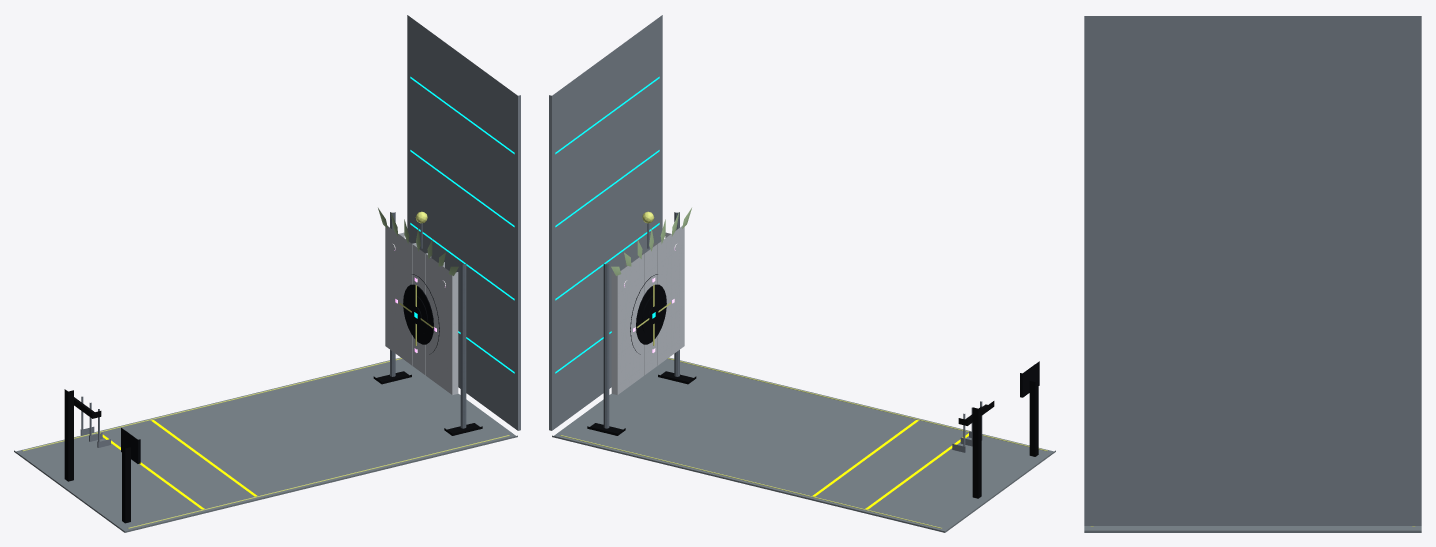
File: tt_axe_bay_gate.glb
3 views of the same model, side by side, from view 1: azimuth 30°, elevation 25°; view 2: azimuth 150°, elevation 25°; view 3: azimuth 270°, elevation 25° (orthographic). The views are drawn at different scales.
Parts seen in each view (by area): view 1: Floor_Mat, Wall_Lining, Target_Boards, Target_Rings, Target_Posts, Court_Inlay, Rack_Post, Lining_Reveal, Tablet_Post, Throw_Lines; view 2: Floor_Mat, Wall_Lining, Target_Boards, Target_Rings, Target_Posts, Court_Inlay, Lining_Reveal, Rack_Post, Tablet_Post, Throw_Lines; view 3: Wall_Lining, Floor_Mat.
Part boxes in pixels (<box>): Floor_Mat: <box>14,357,517,532</box>; Wall_Lining: <box>407,15,520,430</box>; Target_Boards: <box>385,226,458,394</box>; Target_Rings: <box>403,274,439,354</box>; Target_Posts: <box>390,212,466,428</box>; Court_Inlay: <box>22,358,509,528</box>; Rack_Post: <box>64,389,73,481</box>; Lining_Reveal: <box>410,76,514,373</box>; Tablet_Post: <box>122,446,130,523</box>; Throw_Lines: <box>97,420,257,509</box>; Floor_Mat: <box>552,357,1055,532</box>; Wall_Lining: <box>549,15,662,430</box>; Target_Boards: <box>611,226,684,394</box>; Target_Rings: <box>630,274,666,354</box>; Target_Posts: <box>603,212,679,428</box>; Court_Inlay: <box>560,358,1047,528</box>; Lining_Reveal: <box>555,76,659,373</box>; Rack_Post: <box>972,406,981,498</box>; Tablet_Post: <box>1029,380,1038,456</box>; Throw_Lines: <box>812,420,968,509</box>; Wall_Lining: <box>1084,16,1421,525</box>; Floor_Mat: <box>1084,526,1421,532</box>.
Size of what is drawn, in the model's own units: 6.8 by 5.6 by 3.3.
12 materials, 5 textured.
